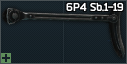AKMS shoulder piece 6P4 Sb.1-19: (0, 0, 127, 64)
